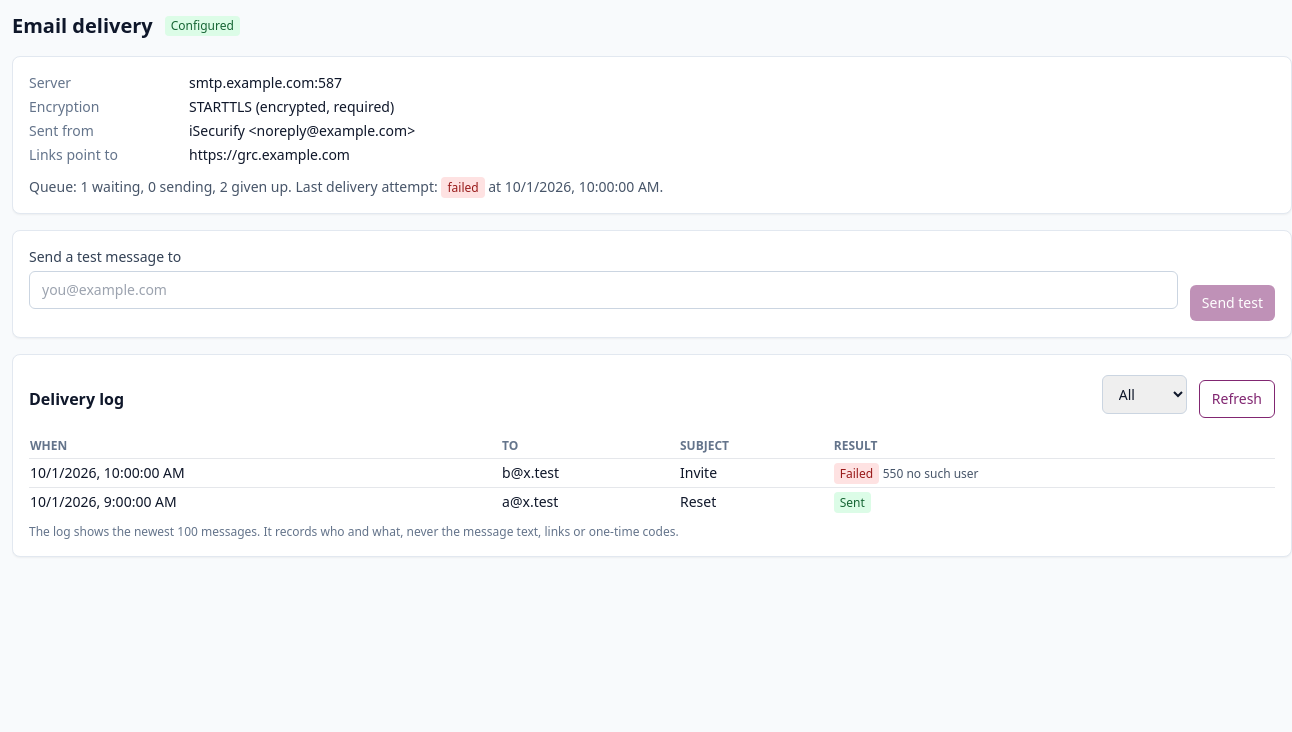
send test posts the address, confirms, and shows server errors
Type "me@example.org" into the field labelled "Send a test message to".
click(603, 290); type("me@example.org")  # box left=29, top=271, right=1178, bottom=309
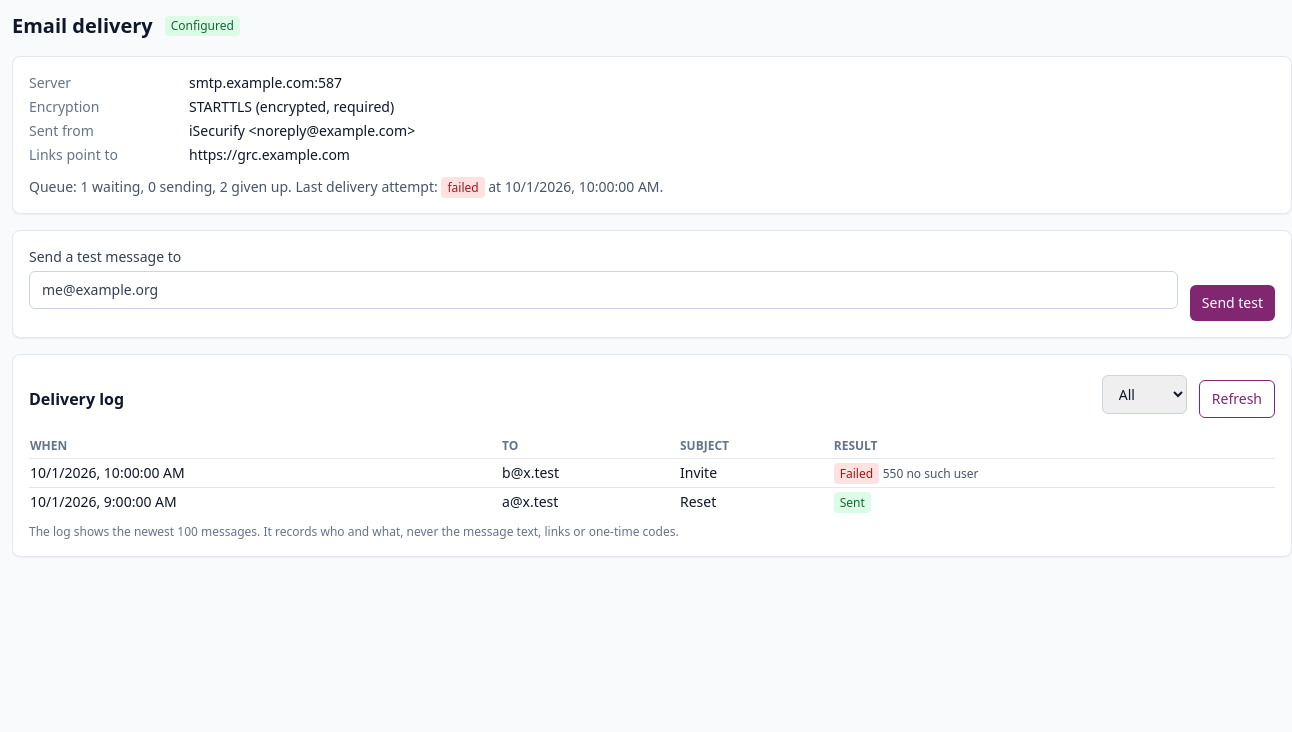
Click the button "Send test".
click(1232, 303)  # box left=1190, top=285, right=1275, bottom=321
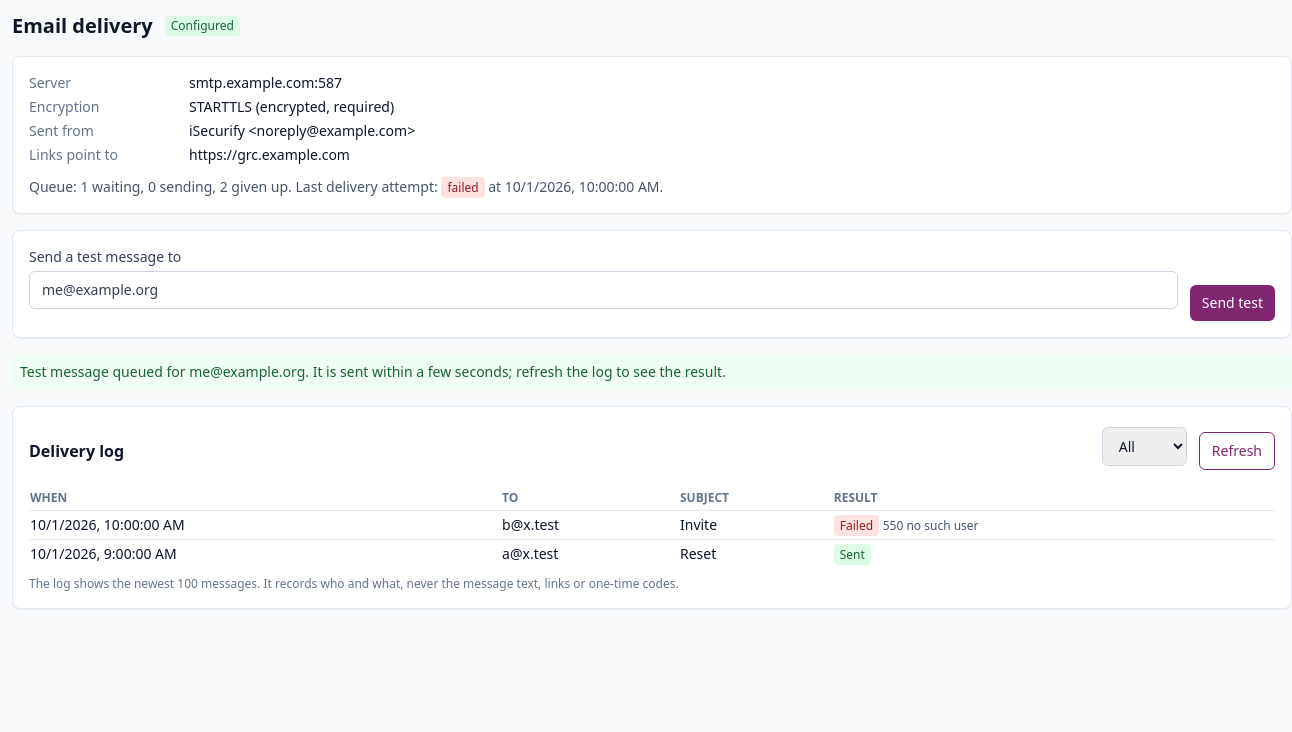
Check: the text "Test message queued for me@example.org" is shown, box left=20, top=362, right=726, bottom=381
Click the button "Send test".
click(1232, 303)  # box left=1190, top=285, right=1275, bottom=321
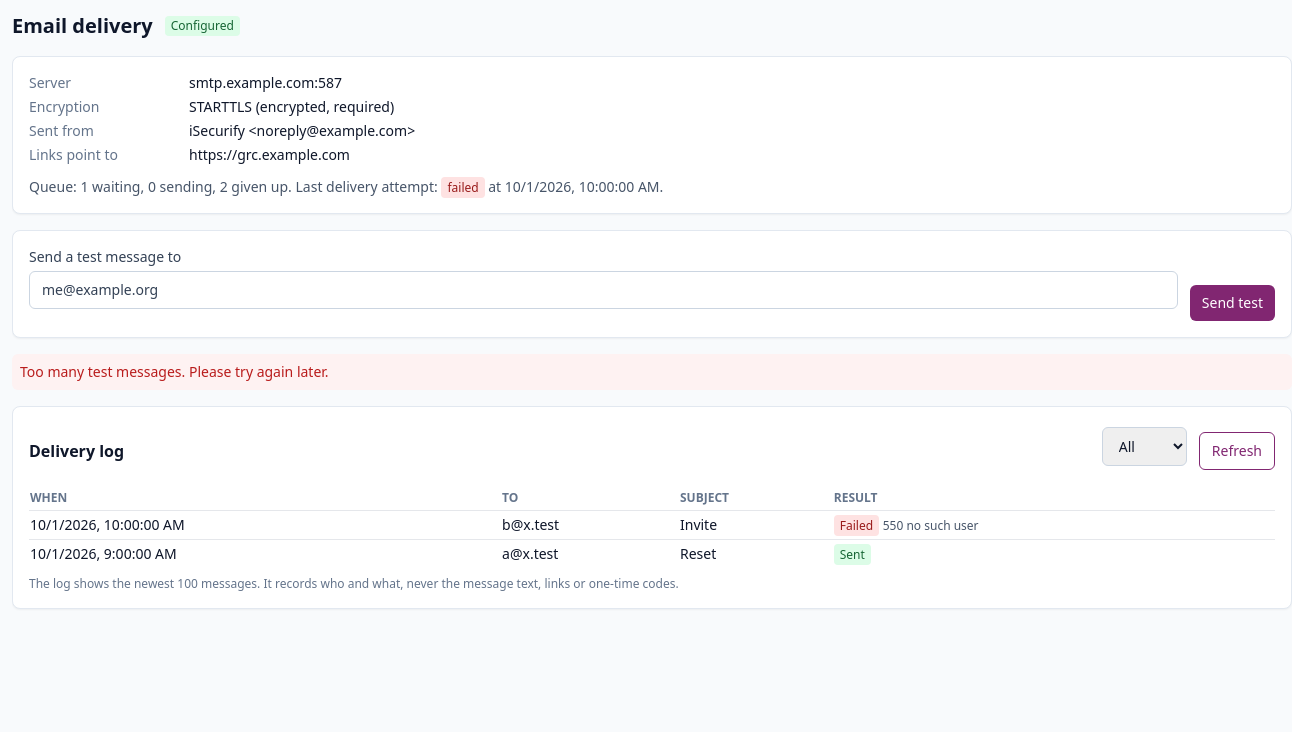
Check: the text "Too many test messages. Please try again later." is shown, box left=12, top=354, right=1291, bottom=390
